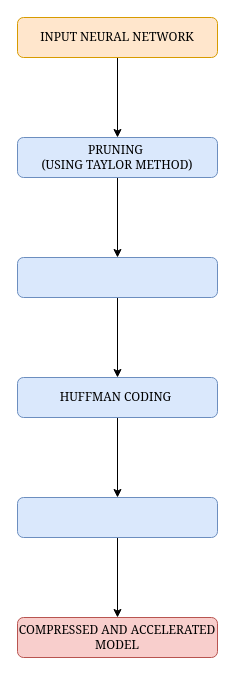
The diagram is 243 pixels wide and 675 high, and some of its shapes have lost their labels. The shapes that lost their labels are listed below. From the top down, each one's box as (x1, y1, x2, y2) in pixels, then its label:
(16, 256, 218, 298): QUANTIZATION AWARE TRAINING
(16, 496, 218, 538): AUTOMATIC MIXED PRECISION AMP
